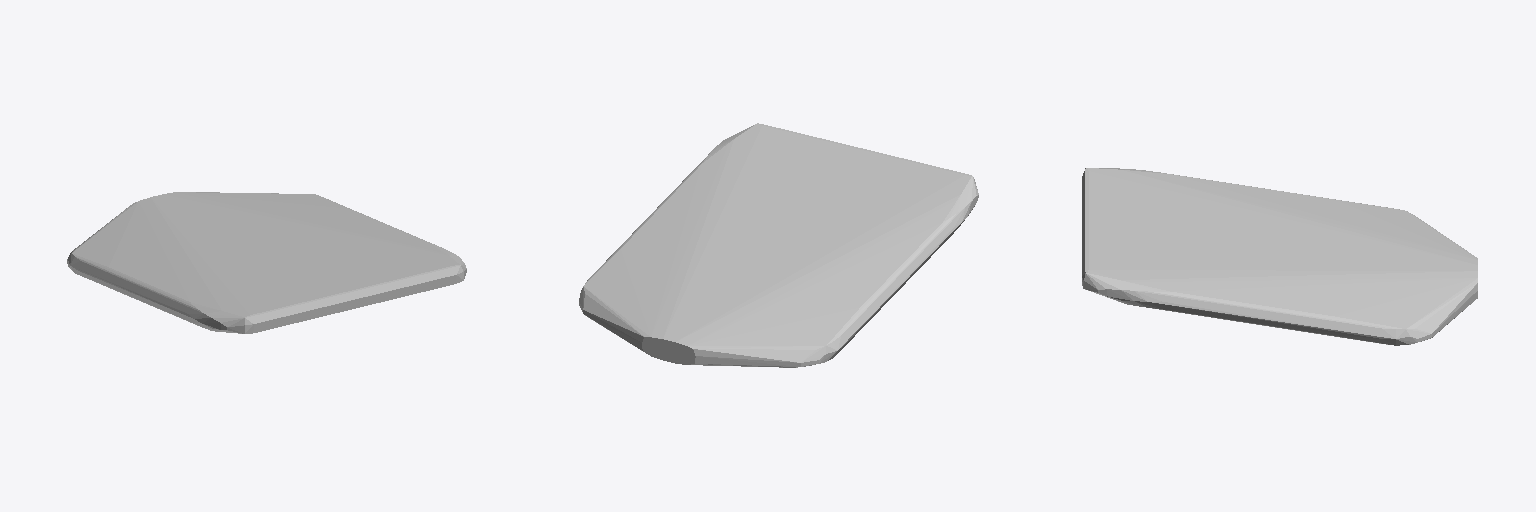
File: Spatula_1_collision_0.obj
3 renders of one model, left to right at view 1: azimuth 30°, elevation 25°; view 2: azimuth 150°, elevation 25°; view 3: azimuth 270°, elevation 25°, orthographic.
Bounding box in the file's own units: 0.0631 × 0.0168 × 0.0847.